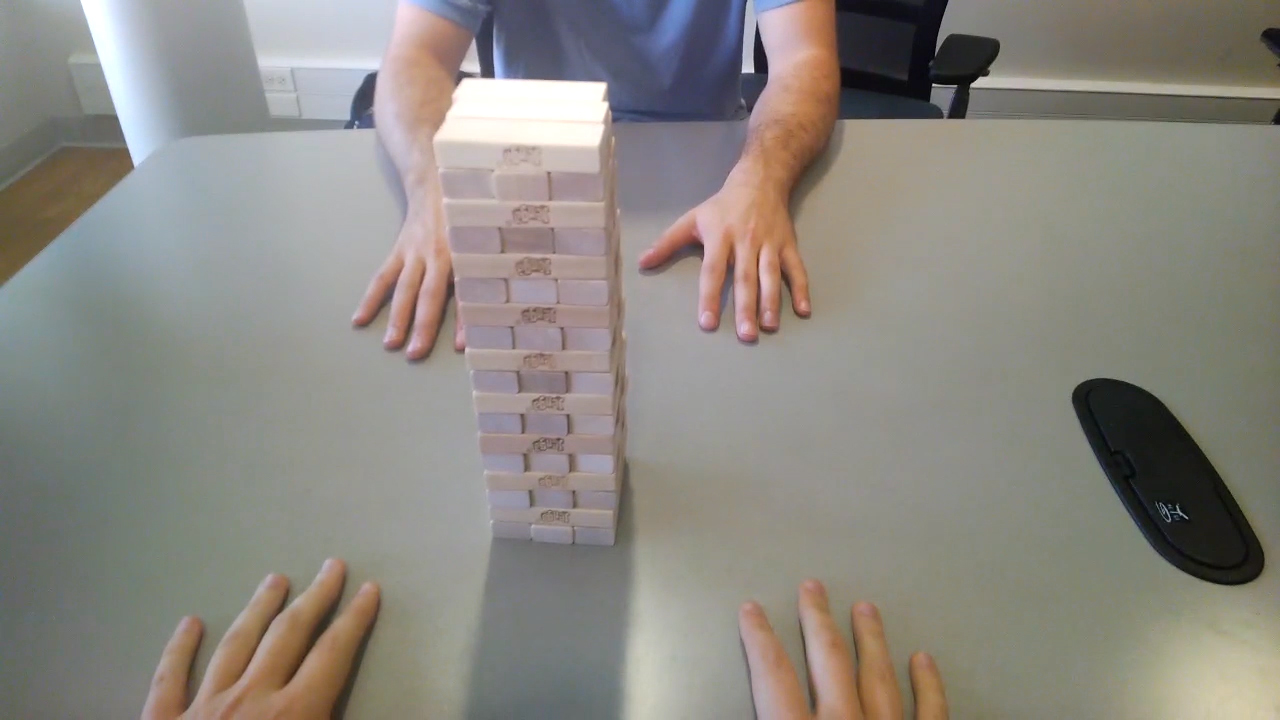hand: (145, 572, 369, 713), (747, 581, 938, 716), (650, 188, 802, 324), (353, 204, 459, 354)
